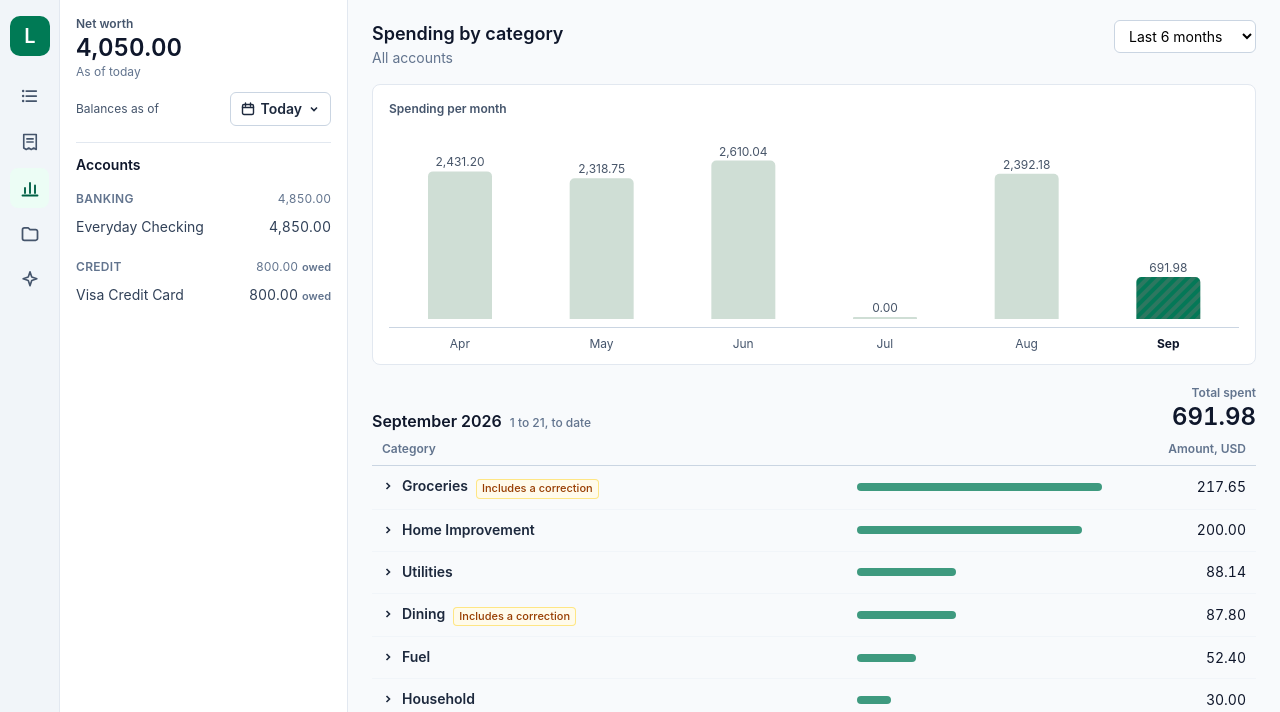
Test: expanding a category › fetches the lines only when opened, for the selected month
expect the text "Corner Market" is not shown: met
What coordinates should you click on to do the following:
click the button "Groceries"
I would click on:
 (425, 486)
Its box is [382,476,468,496].
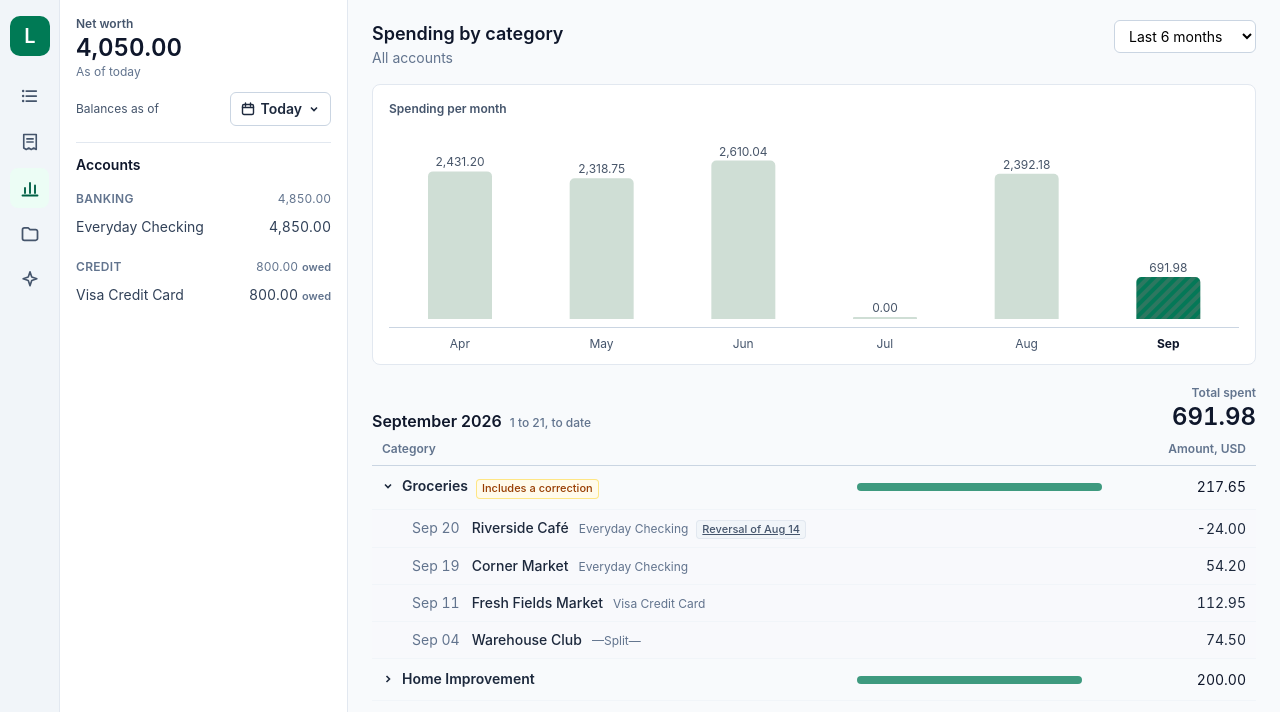
expect the text "Corner Market" is shown: met, box [472,557,569,574]
expect the button "Groceries" is expanded: met, box [382,476,468,496]
